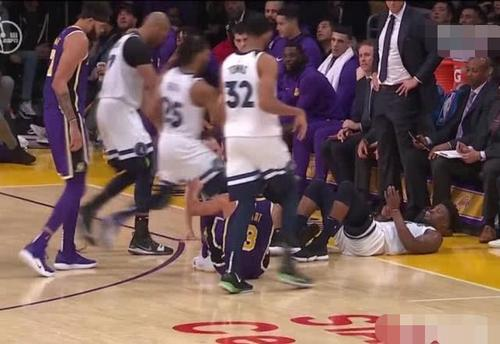10+: (1, 1, 500, 297)
down: (274, 175, 468, 257), (174, 172, 300, 279)
